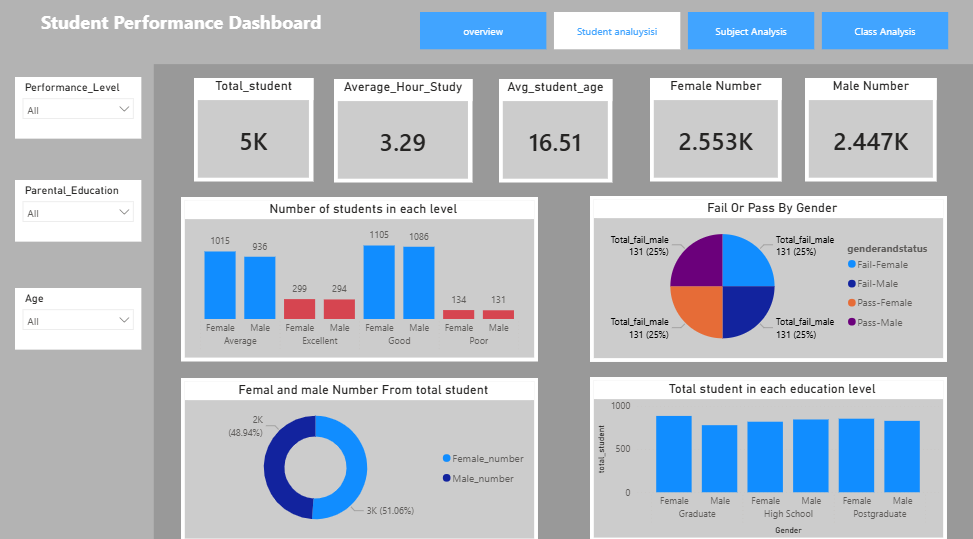

Layout of this report page (visuals, bound fields, positions):
{"tool":"powerbi","page":{"name":"Student analuysisi","canvas":[1280,720],"ordinal":1},"visuals":[{"type":"shape","box":[0,0,1280,90.8],"z":0},{"type":"cardVisual","title":"Avg_student_age","fields":{"Data":["studentMeasures.Average_student_age"]},"box":[654.9,109.5,148.6,136.3],"z":0,"group":"g1"},{"type":"textbox","box":[42.7,13.8,392.3,57.8],"z":1000},{"type":"cardVisual","title":"Average_Hour_Study","fields":{"Data":["studentMeasures.Average_student_stdy_hour_per_day"]},"box":[438.8,109.5,181.7,136.3],"z":1000,"group":"g1"},{"type":"shape","box":[0,90.8,202.3,629],"z":2000},{"type":"cardVisual","title":"Total_student","fields":{"Data":["studentMeasures.total_student"]},"box":[254.2,109.2,156.9,136.3],"z":2000,"group":"g1"},{"type":"group","id":"g1","title":"Group 1","box":[254.2,108.7,772,137],"z":3000},{"type":"cardVisual","title":"Female Number","fields":{"Data":["studentMeasures.Female_number"]},"box":[852.8,108.7,173.4,136.3],"z":3000,"group":"g1"},{"type":"cardVisual","title":"Male Number","fields":{"Data":["studentMeasures.Male_number"]},"box":[1057,108.7,173.4,136.3],"z":4000},{"type":"clusteredColumnChart","title":"Number of students in each level","fields":{"Category":["fact_student_performance.Performance_Level","Dim_student.Gender"],"Y":["studentMeasures.total_student"]},"box":[238.3,264.8,469.3,216.3],"z":5000},{"type":"donutChart","title":"Femal and male Number From total student","fields":{"Y":["studentMeasures.Female_number","studentMeasures.Male_number"]},"box":[238.3,503.2,469.3,216.3],"z":6000},{"type":"columnChart","title":"Total student in each education level","fields":{"Y":["studentMeasures.total_student"],"Category":["fact_student_performance.Parental_Education","Dim_student.Gender"]},"box":[775.5,501.7,468.7,216.4],"z":7000},{"type":"pieChart","title":"Fail Or Pass By Gender","fields":{"Category":["fact_student_performance.genderandstatus"],"Y":["studentMeasures.Total_pass_Female","studentMeasures.Total_fail_male"]},"box":[775.2,264.1,469.1,218.1],"z":8000},{"type":"slicer","fields":{"Values":["fact_student_performance.Performance_Level"]},"box":[19.1,107.4,166.3,80.9],"z":9000},{"type":"slicer","fields":{"Values":["fact_student_performance.Parental_Education"]},"box":[19.1,242.8,166.3,80.9],"z":10000},{"type":"slicer","fields":{"Values":["Dim_student.Age"]},"box":[19.1,385.5,166.3,80.9],"z":11000},{"type":"pageNavigator","box":[551.9,22,696.4,49.5],"z":11001}]}

Visuals, with their boxes in screenshot pixels (x1, y1, x2, y2), scaled from the page's 1280x720 canvas onto the 973x539 screenshot:
shape: box(0, 0, 972, 68)
"Avg_student_age" cardVisual: box(498, 82, 611, 184)
textbox: box(32, 10, 331, 54)
"Average_Hour_Study" cardVisual: box(334, 82, 472, 184)
shape: box(0, 68, 154, 538)
"Total_student" cardVisual: box(193, 82, 313, 184)
"Group 1" group: box(193, 81, 780, 184)
"Female Number" cardVisual: box(648, 81, 780, 183)
"Male Number" cardVisual: box(803, 81, 935, 183)
"Number of students in each level" clusteredColumnChart: box(181, 198, 538, 360)
"Femal and male Number From total student" donutChart: box(181, 377, 538, 538)
"Total student in each education level" columnChart: box(590, 376, 946, 538)
"Fail Or Pass By Gender" pieChart: box(589, 198, 946, 361)
slicer - fact_student_performance.Performance_Level: box(15, 80, 141, 141)
slicer - fact_student_performance.Parental_Education: box(15, 182, 141, 242)
slicer - Dim_student.Age: box(15, 289, 141, 349)
pageNavigator: box(420, 16, 949, 54)
